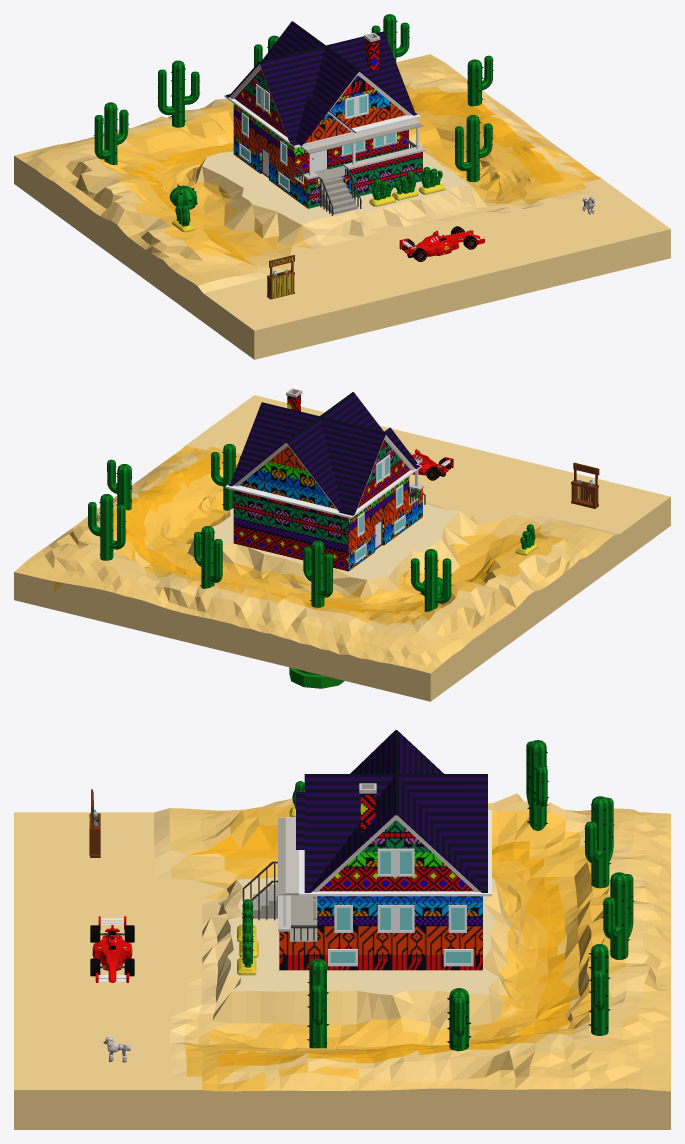
3 renders of one model, top to bottom at view 1: azimuth 30°, elevation 25°; view 2: azimuth 150°, elevation 25°; view 3: azimuth 270°, elevation 25°, orthographic. The views are drawn at different scales.
Parts seen in each view (by area): view 1: Cube.001, Cube.966, Cylinder.037, Cylinder.044, Cylinder.045, VEHICLES_FORMULA_1, Cylinder.038, OBJRANDOM_LEMONADE_STAND, Cylinder.042, Cylinder.039, Cylinder.041, Sphere.023 (+1 smaller); view 2: Cube.001, Cube.966, Cylinder.042, Cylinder.045, Cylinder.044, Cylinder.043, Cylinder.037, OBJRANDOM_LEMONADE_STAND, Cylinder.038, UNDERGROUND_PIPES, VEHICLES_FORMULA_1; view 3: Cube.001, Cube.966, VEHICLES_FORMULA_1, Cylinder.043, Cylinder.044, Cylinder.045, Cylinder.042, Cylinder.037, Cylinder.038, Cylinder.041, OBJRANDOM_LEMONADE_STAND.
Boxes of the visible parts, x1,y1,x2,y2 form: Cube.001: [14, 54, 670, 359]; Cube.966: [224, 21, 425, 215]; Cylinder.037: [454, 115, 493, 182]; Cylinder.044: [157, 60, 200, 127]; Cylinder.045: [93, 102, 129, 164]; VEHICLES_FORMULA_1: [399, 226, 484, 261]; Cylinder.038: [467, 55, 493, 106]; OBJRANDOM_LEMONADE_STAND: [267, 255, 294, 299]; Cylinder.042: [371, 14, 409, 62]; Cylinder.039: [369, 179, 395, 206]; Cylinder.041: [418, 167, 445, 194]; Sphere.023: [169, 184, 197, 209]; Cube.001: [14, 395, 670, 701]; Cube.966: [225, 388, 425, 571]; Cylinder.042: [88, 494, 126, 560]; Cylinder.045: [410, 549, 452, 611]; Cylinder.044: [303, 540, 333, 607]; Cylinder.043: [193, 526, 222, 588]; Cylinder.037: [211, 444, 240, 510]; OBJRANDOM_LEMONADE_STAND: [571, 462, 599, 508]; Cylinder.038: [107, 459, 131, 510]; UNDERGROUND_PIPES: [289, 667, 344, 688]; VEHICLES_FORMULA_1: [410, 449, 453, 480]; Cube.001: [14, 793, 670, 1129]; Cube.966: [242, 730, 491, 970]; VEHICLES_FORMULA_1: [90, 916, 134, 982]; Cylinder.043: [602, 872, 634, 959]; Cylinder.044: [584, 796, 614, 888]; Cylinder.045: [526, 740, 549, 830]; Cylinder.042: [588, 944, 610, 1035]; Cylinder.037: [307, 959, 329, 1048]; Cylinder.038: [447, 988, 471, 1051]; Cylinder.041: [237, 932, 256, 975]; OBJRANDOM_LEMONADE_STAND: [89, 789, 100, 857].
Size of the model in its own units: 4002 by 2210 by 4001.
39 materials, 6 textured.
